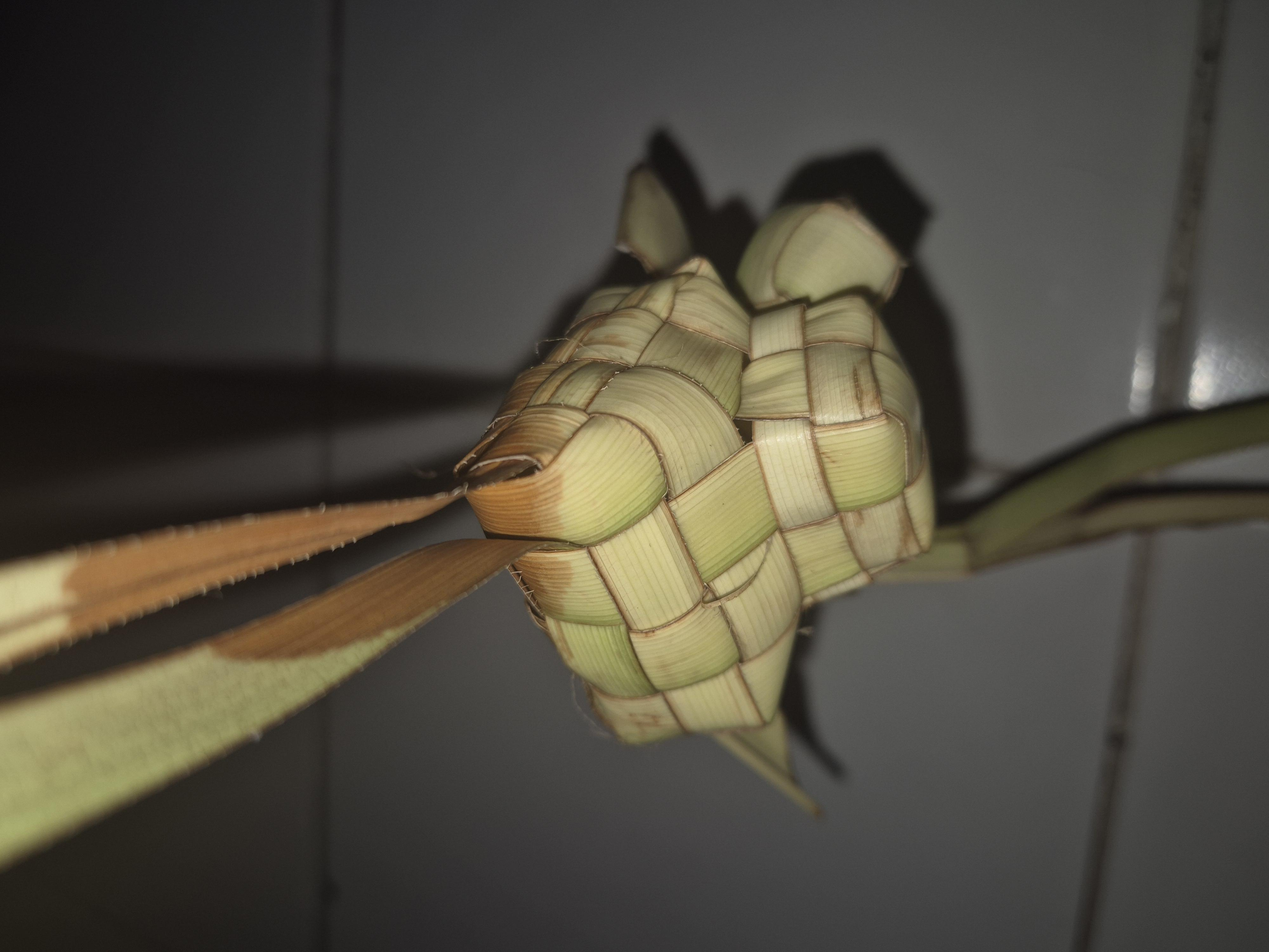Tipat Gong: (279, 350, 923, 701)
